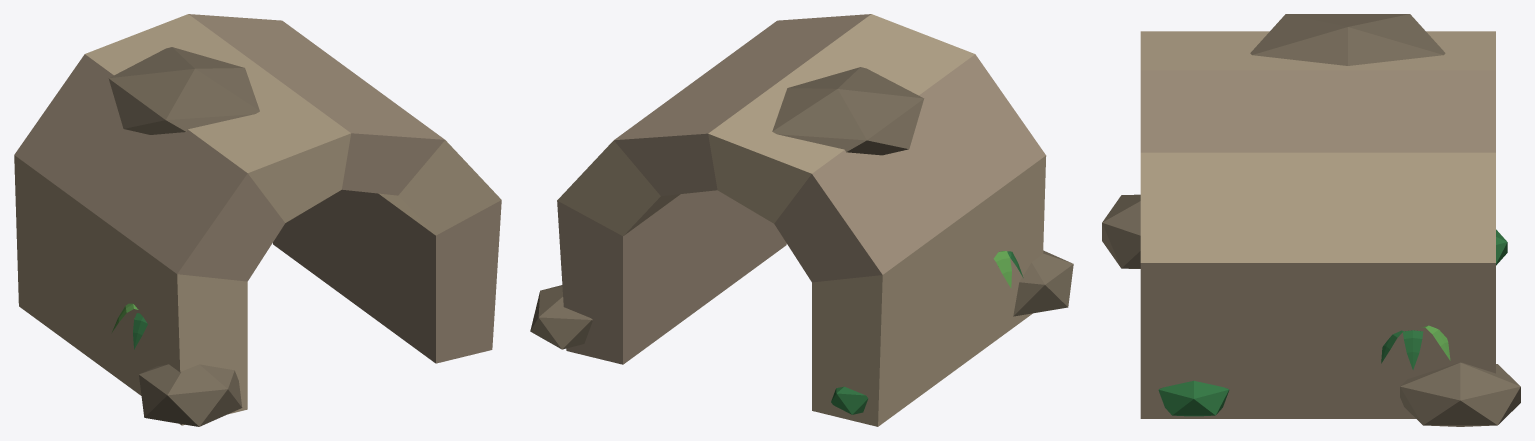
The model's file is Tropical_LagoonGrotto_Showcase.glb.
3 views of the same model, side by side, from view 1: azimuth 30°, elevation 25°; view 2: azimuth 150°, elevation 25°; view 3: azimuth 270°, elevation 25° (orthographic). The views are drawn at different scales.
Parts seen in each view (by area): view 1: Tropical_LagoonGrotto_Showcase; view 2: Tropical_LagoonGrotto_Showcase; view 3: Tropical_LagoonGrotto_Showcase.
Boxes of the visible parts, x1,y1,x2,y2 form: Tropical_LagoonGrotto_Showcase: [14, 14, 501, 426]; Tropical_LagoonGrotto_Showcase: [530, 14, 1073, 426]; Tropical_LagoonGrotto_Showcase: [1102, 14, 1520, 426].
Size of the model in its own units: 8.19 by 5.45 by 7.07.
